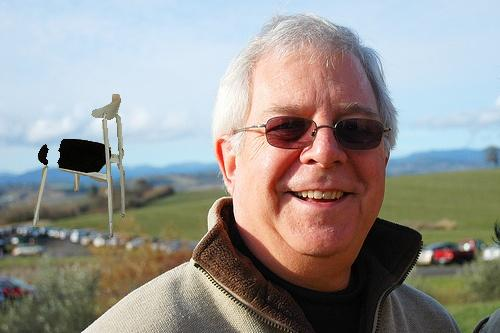tampered: (33, 95, 125, 238)
